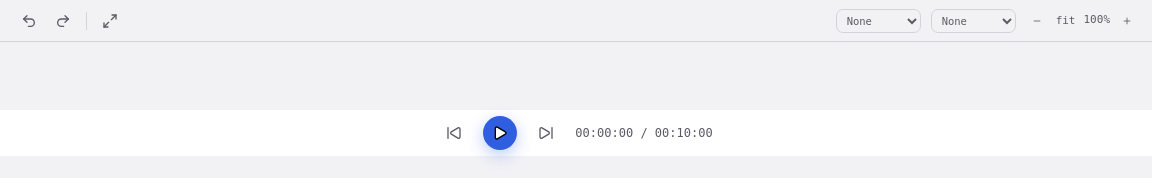
CanvasStage — the toolbar › zooms in and out around a hundred percent
Click the button titled "Zoom in" at (1127, 20), box [1116,10,1138,32]
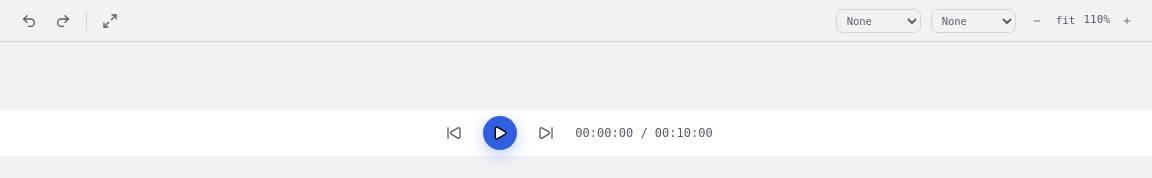
Check: the text "110%" is shown, box [1084,12,1110,29]
Click the button titled "Zoom out" at (1037, 20), box [1026,10,1048,32]
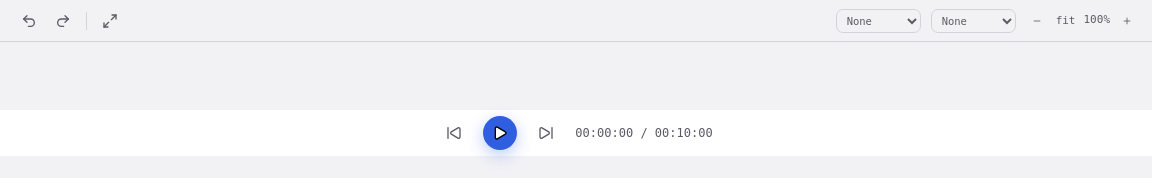
Click the button titled "Zoom out" at (1037, 20), box [1026,10,1048,32]
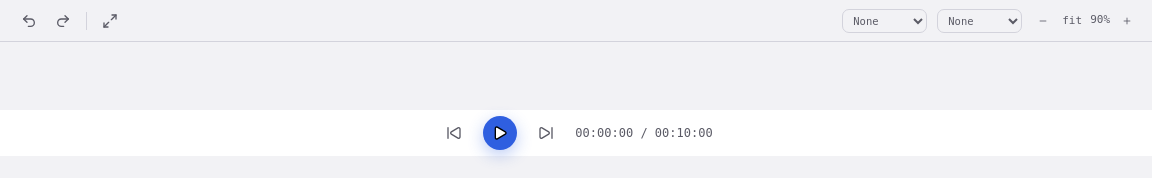
Check: the text "90%" is shown, box [1090,12,1110,29]
